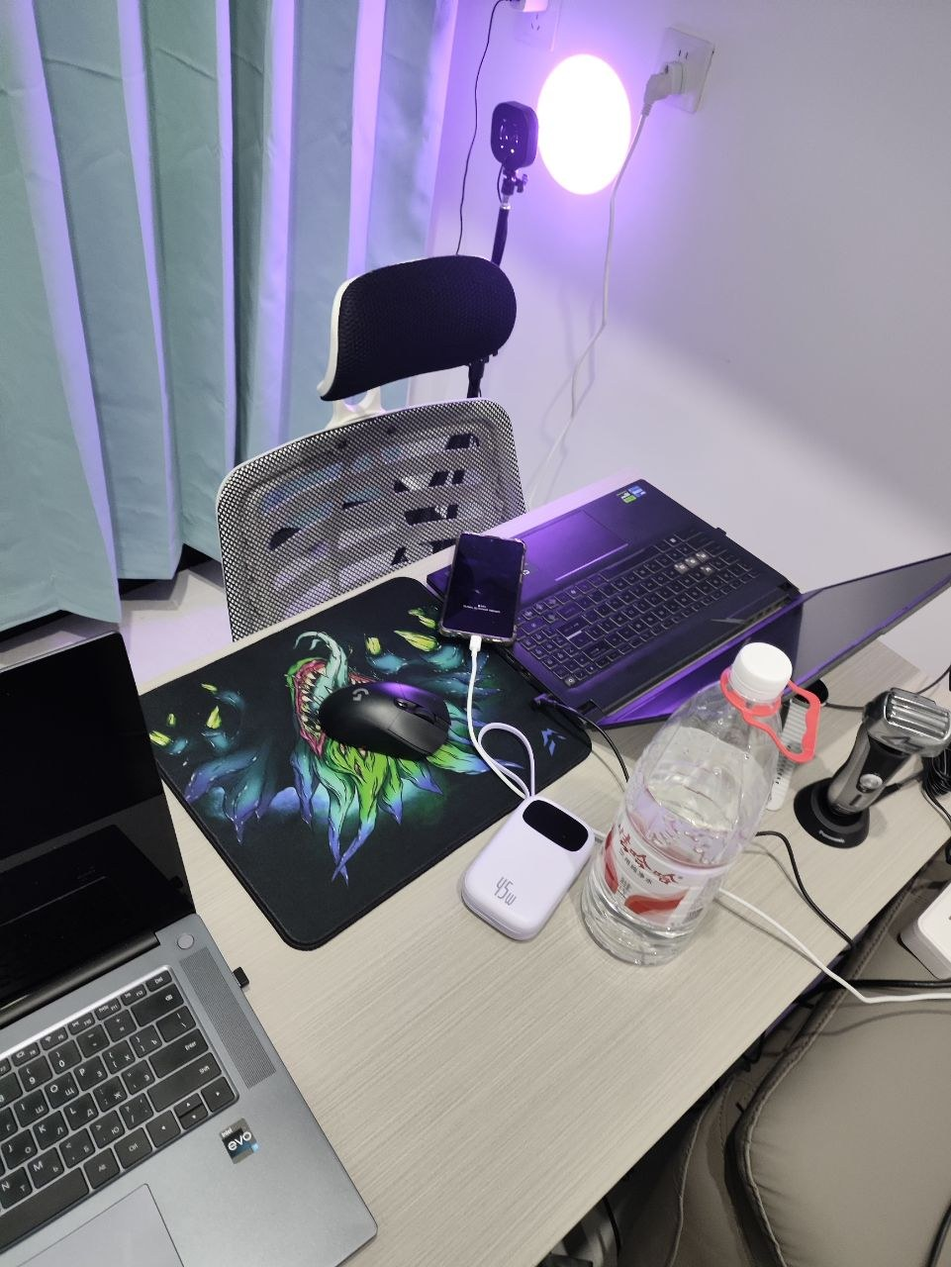cell phone: (437, 532, 526, 644)
laptop: (0, 630, 378, 1265), (430, 475, 950, 728)
